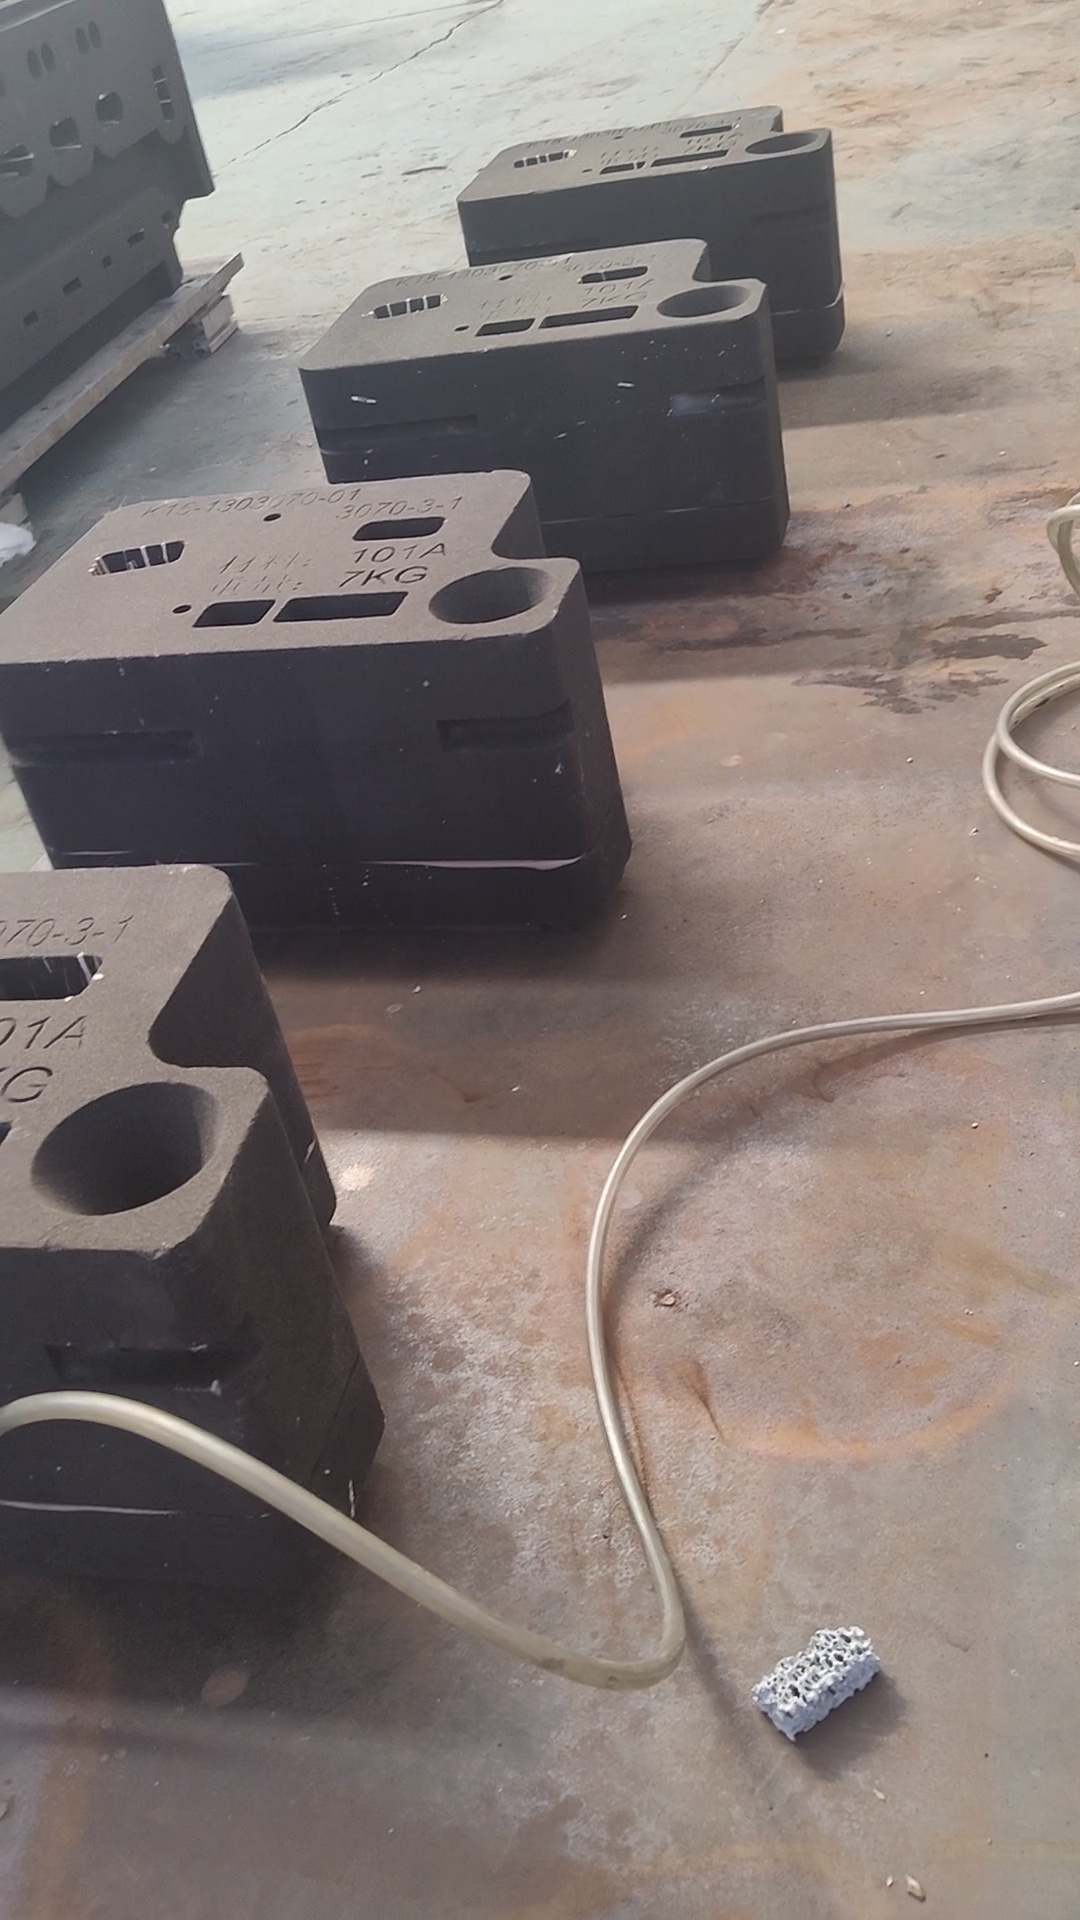pouring hole: (30, 1080, 222, 1216), (426, 567, 551, 622), (655, 284, 752, 318), (744, 131, 818, 154)
